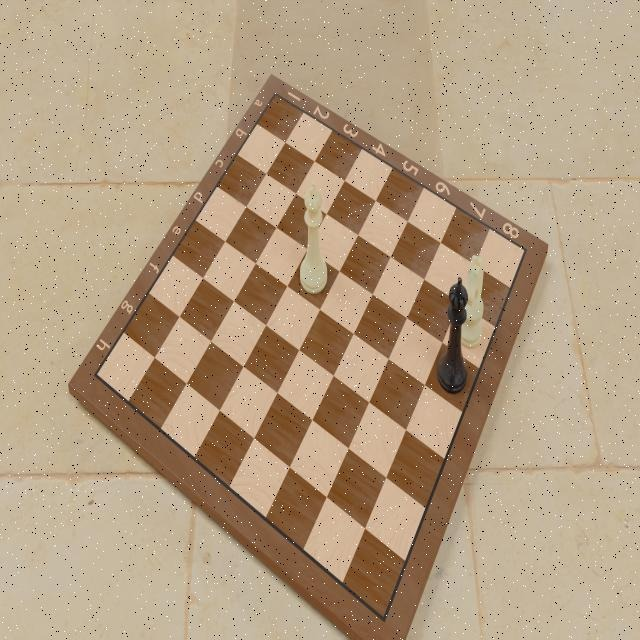black-king: (436, 274, 469, 398)
white-king: (299, 181, 329, 296)
white-knight: (458, 251, 485, 353)
